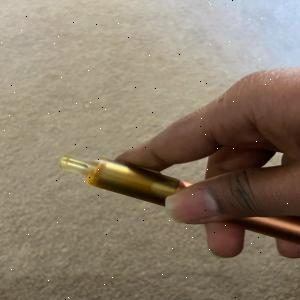Golden-E-Ciggirate: (44, 141, 300, 253)
